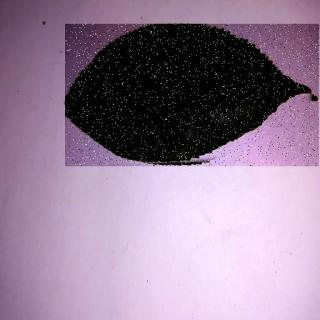Bird Eye Spot: (66, 24, 320, 167)
